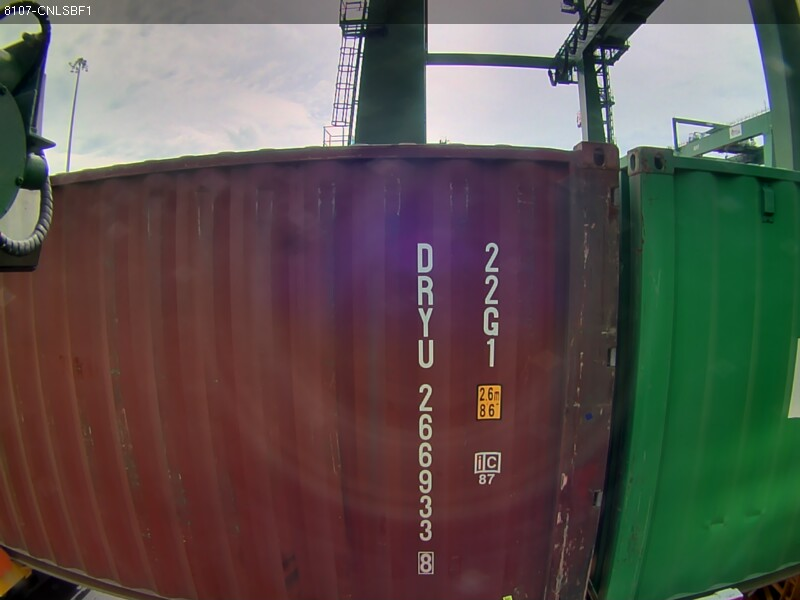container_no_door: (288, 133, 621, 567)
